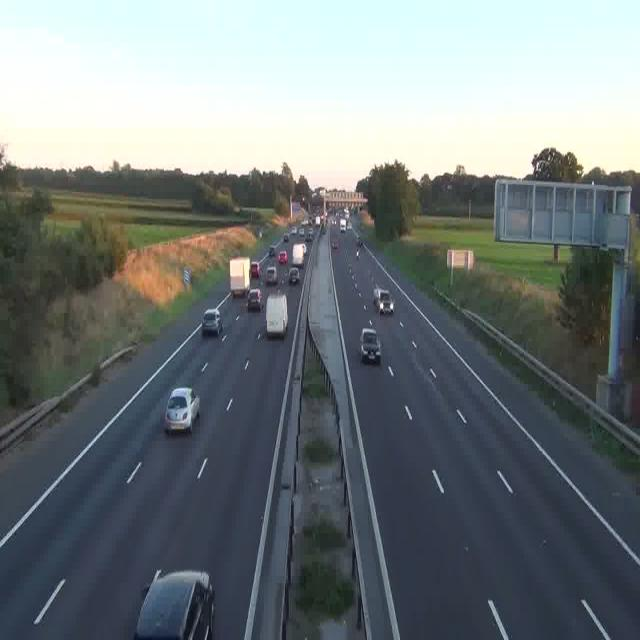car: (135, 570, 215, 640), (164, 387, 200, 432), (360, 326, 381, 363), (202, 308, 222, 337), (376, 288, 392, 313), (247, 286, 263, 310), (264, 265, 278, 284), (288, 266, 300, 284), (250, 260, 260, 280), (278, 251, 288, 265), (332, 238, 340, 249), (354, 246, 360, 259)
truck: (264, 292, 288, 337), (230, 257, 251, 296), (292, 242, 306, 266)
